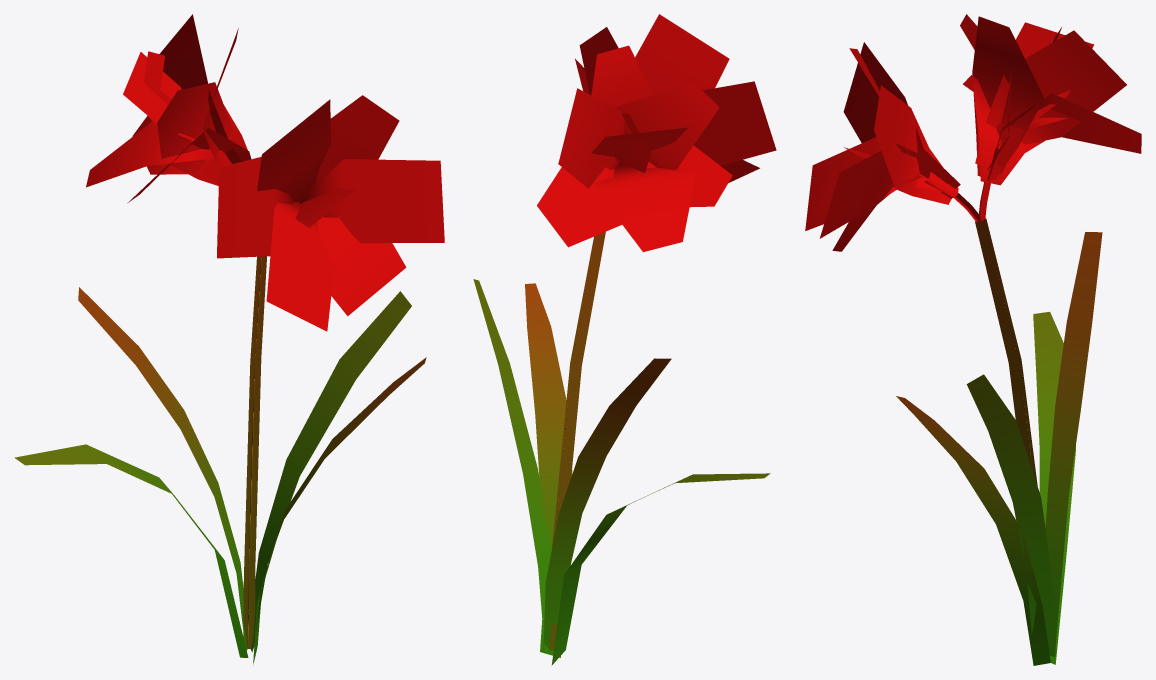
Rendered from Var1_LOD2.fbx.
3 views of the same model, side by side, from view 1: azimuth 30°, elevation 25°; view 2: azimuth 150°, elevation 25°; view 3: azimuth 270°, elevation 25° (orthographic). The views are drawn at different scales.
Visible parts, largest first — view 1: _ebcb_Var1_LOD2; view 2: _ebcb_Var1_LOD2; view 3: _ebcb_Var1_LOD2.
Boxes of the visible parts, x1,y1,x2,y2 form: _ebcb_Var1_LOD2: (14, 14, 444, 665); _ebcb_Var1_LOD2: (473, 14, 776, 665); _ebcb_Var1_LOD2: (805, 14, 1141, 665).
Bounding box in the file's own units: 49.9 × 88.47 × 42.94.
